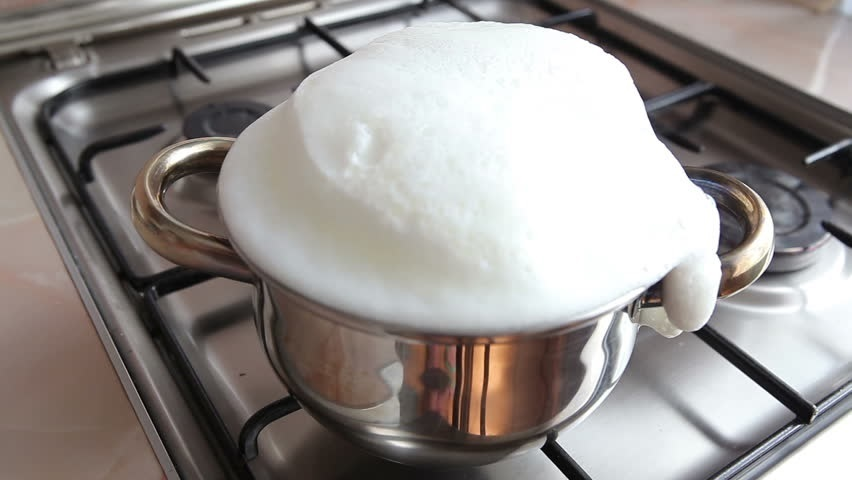Boiled: (126, 19, 780, 375)
